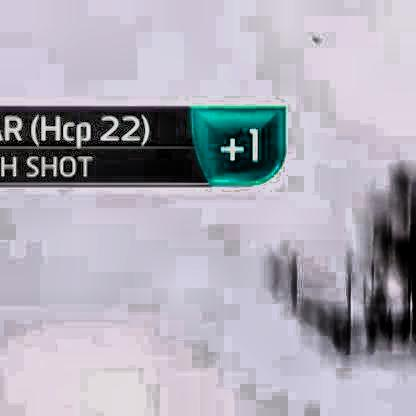golfball: (309, 36, 319, 41)
